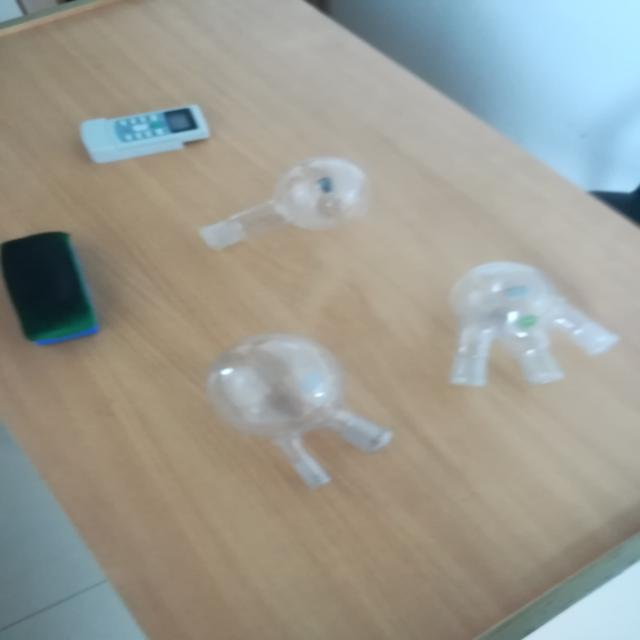Round_Bottom_Flask_Borosilicate_Glass_1_Neck: (179, 146, 389, 284)
Round_Bottom_Flask_Borosilicate_Glass_2_Neck: (196, 313, 404, 501)
Round_Bottom_Flask_Borosilicate_Glass_3_Neck: (432, 253, 640, 418)
